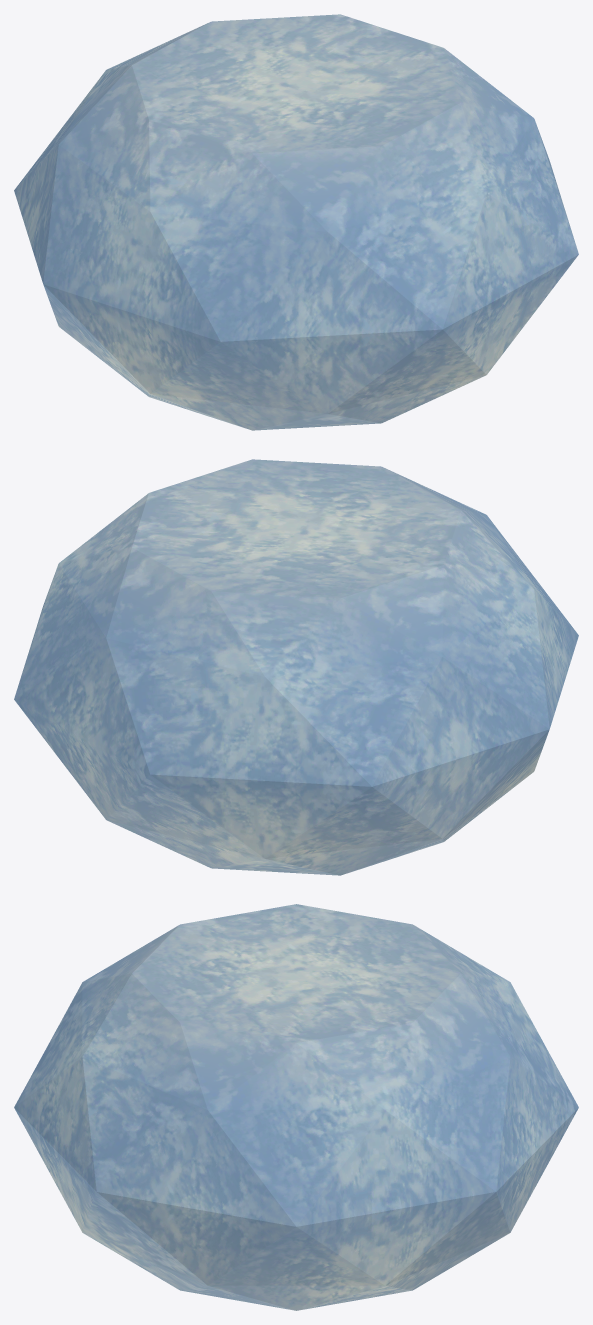
3 renders of one model, top to bottom at view 1: azimuth 30°, elevation 25°; view 2: azimuth 150°, elevation 25°; view 3: azimuth 270°, elevation 25°, orthographic. The views are drawn at different scales.
Parts seen in each view (by area): view 1: vr03; view 2: vr03; view 3: vr03.
Part boxes in pixels (left/top/right/bottom): vr03: left=14, top=14, right=578, bottom=430; vr03: left=14, top=459, right=578, bottom=875; vr03: left=14, top=904, right=578, bottom=1310.
Bounding box in the file's own units: 117964 × 61688 × 117964.
Materials: 1 (1 with a texture image).
